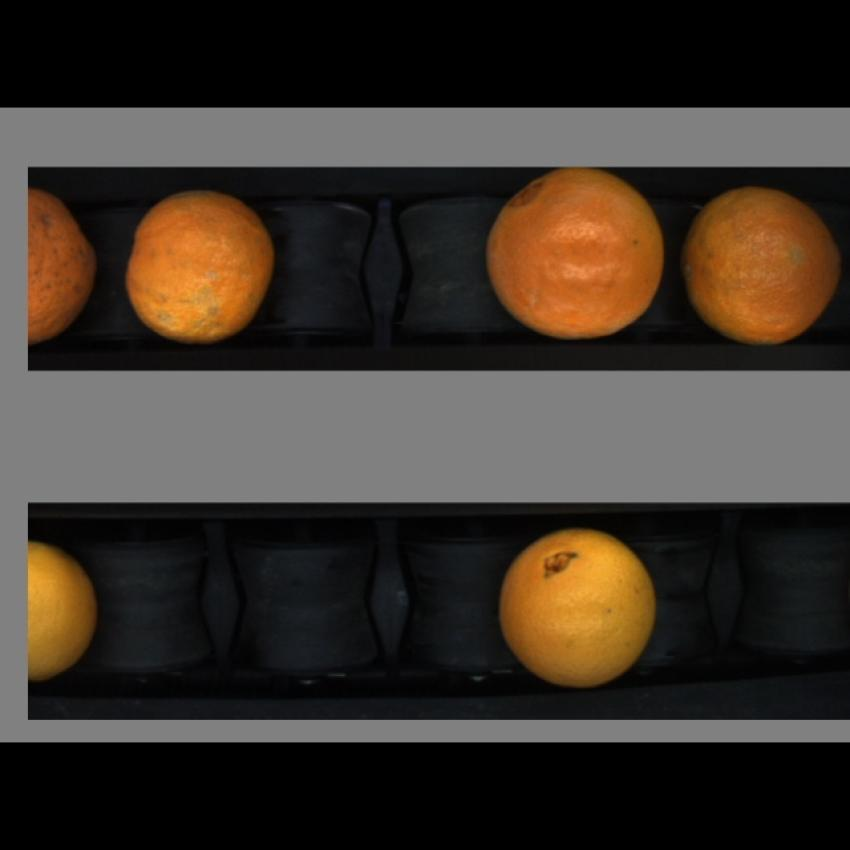Buen estado: (31, 534, 102, 687)
Mal estado: (486, 167, 666, 343), (494, 518, 664, 694), (681, 182, 848, 348), (126, 186, 278, 350), (29, 183, 101, 349)
